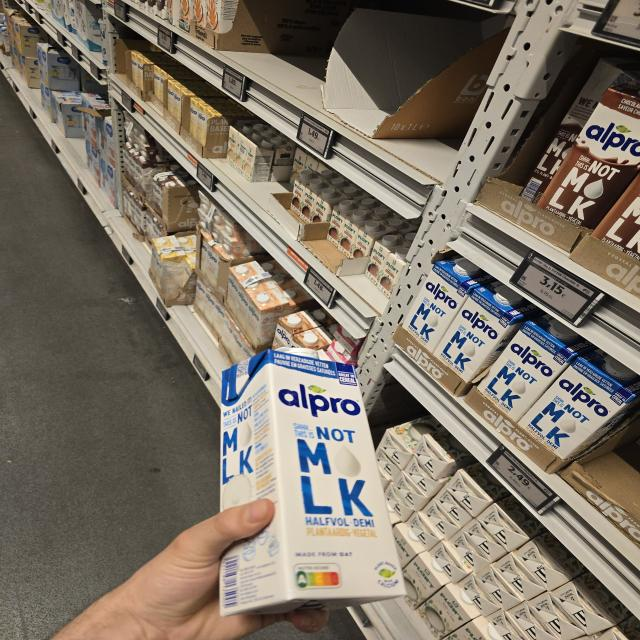Milk: (219, 349, 408, 616), (515, 348, 640, 459), (476, 314, 598, 422), (433, 280, 545, 382), (400, 254, 498, 354)
